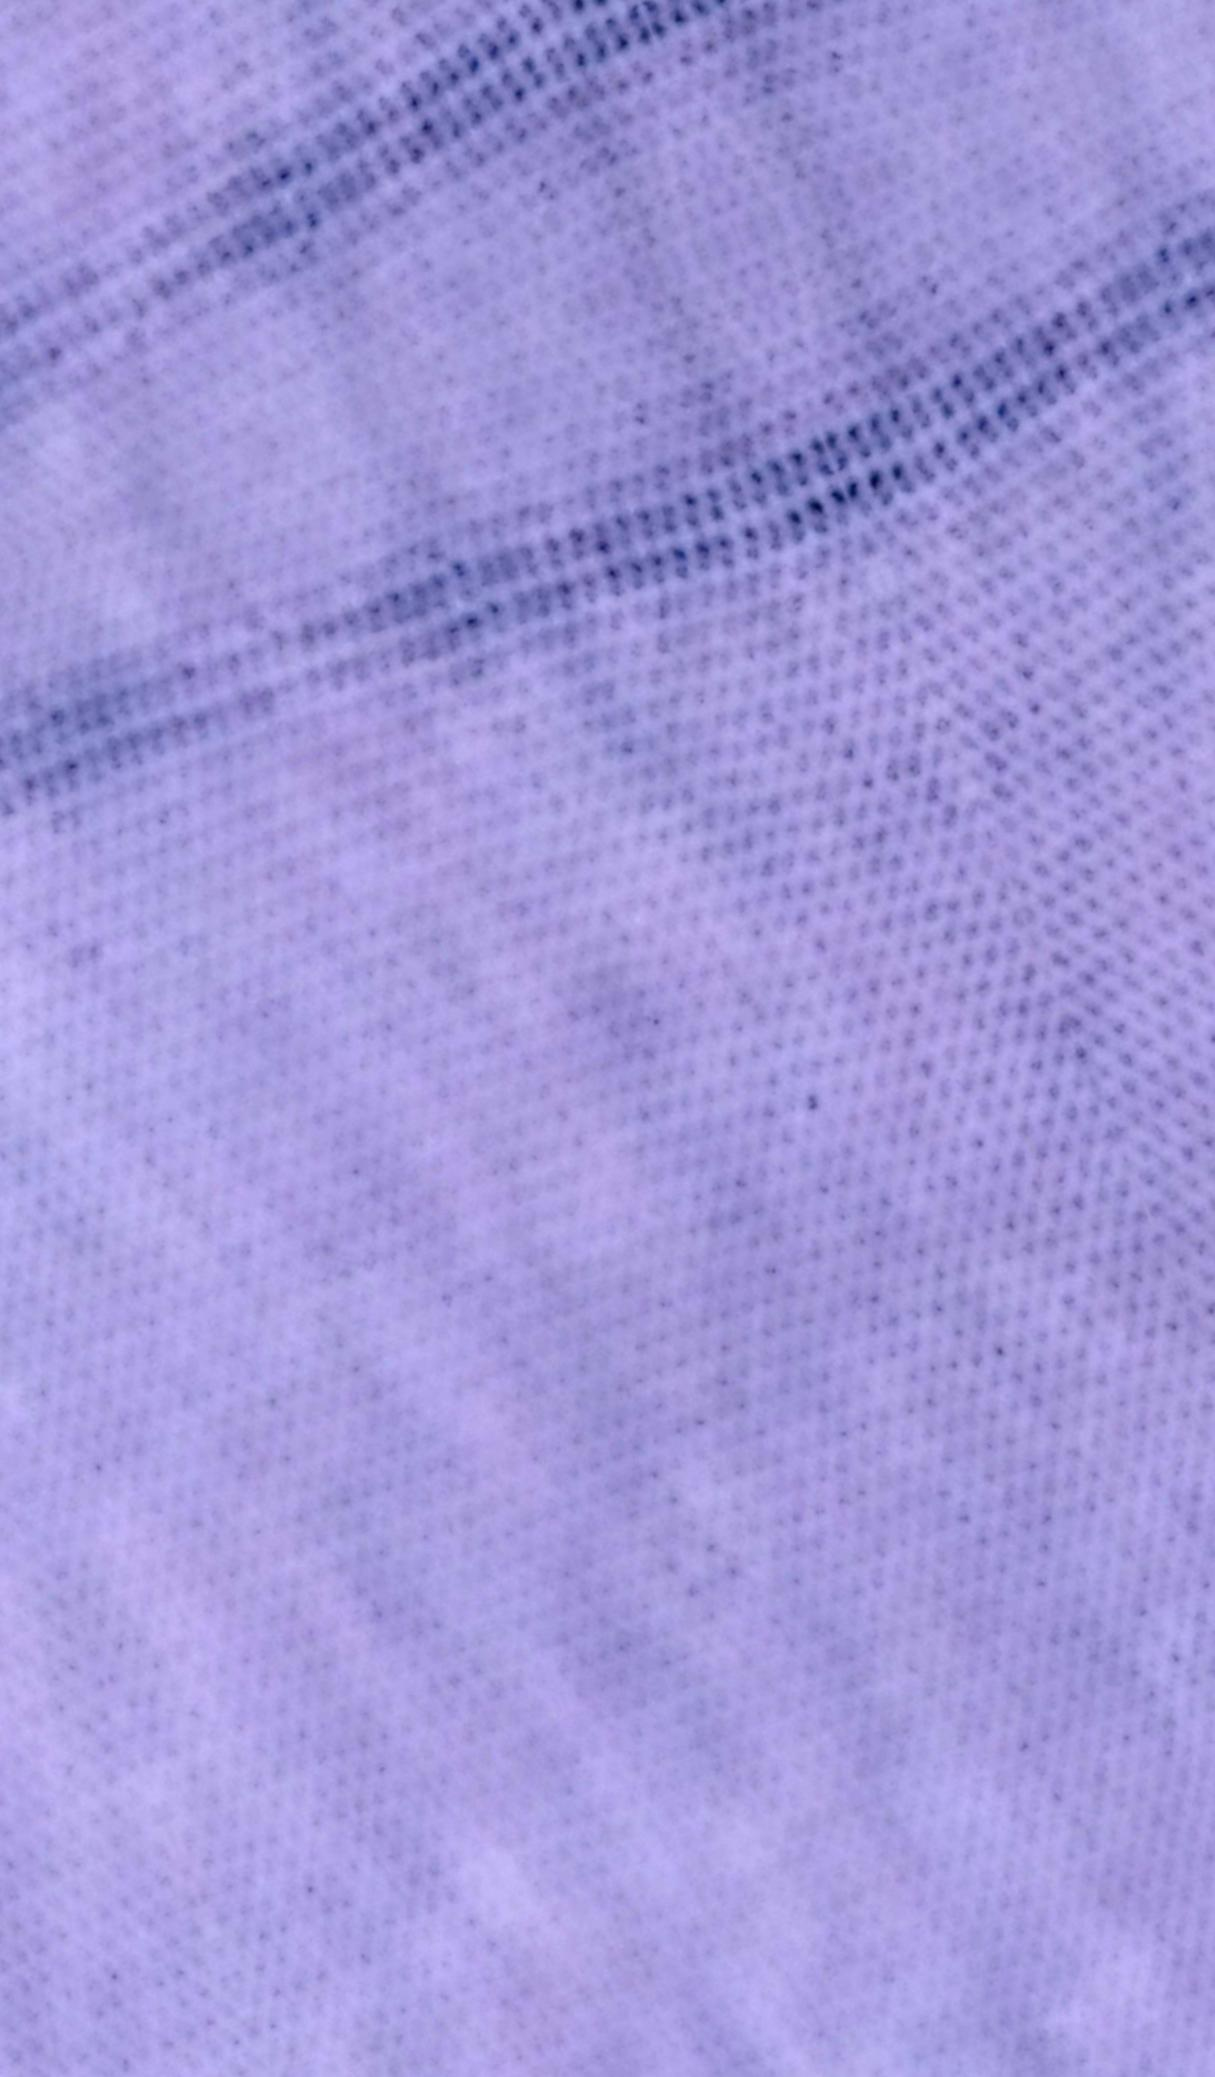slub: (0, 200, 1211, 816), (0, 4, 878, 412)
